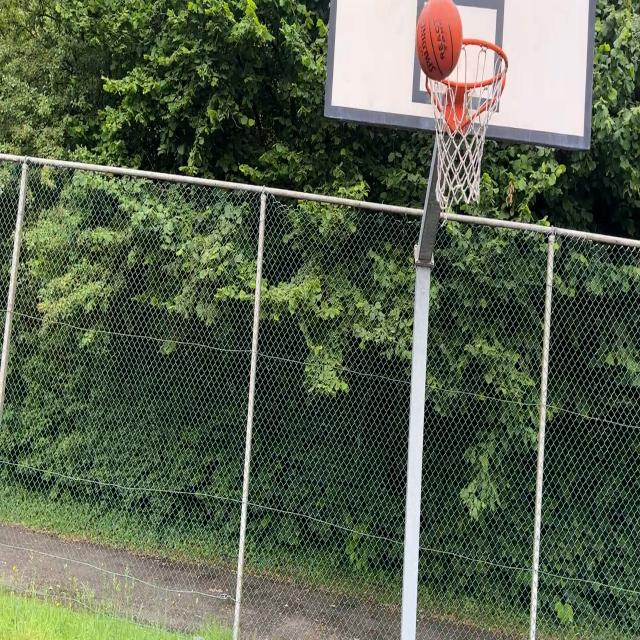rebound_hit: (414, 0, 466, 81)
